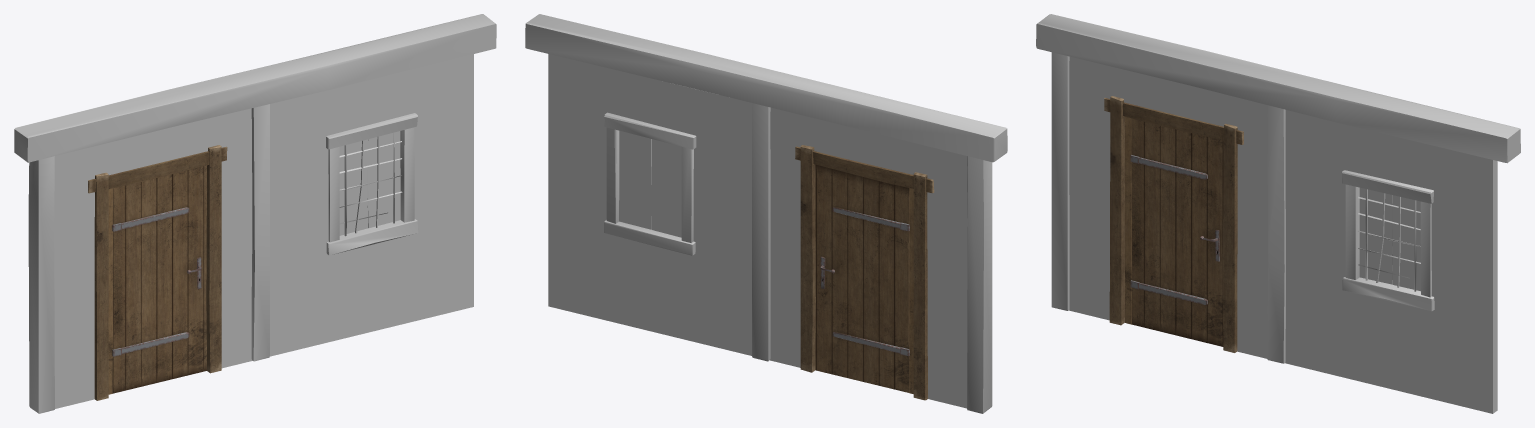
Rendered from SM_WallElement_08_LOD_02.FBX.
3 views of the same model, side by side, from view 1: azimuth 30°, elevation 25°; view 2: azimuth 150°, elevation 25°; view 3: azimuth 330°, elevation 25° (orthographic).
Visible parts, largest first — view 1: SM_WallElement_08_LOD_01, SM_Door_01_LOD_01, SM_Window_Shutter_Right_LOD_01, SM_Window_Shutter_Left_LOD_01; view 2: SM_WallElement_08_LOD_01, SM_Door_01_LOD_01, SM_Window_Shutter_Right_LOD_01, SM_Window_Shutter_Left_LOD_01; view 3: SM_WallElement_08_LOD_01, SM_Door_01_LOD_01, SM_Window_Shutter_Left_LOD_01, SM_Window_Shutter_Right_LOD_01.
Part boxes in pixels (bbox=[...]): SM_WallElement_08_LOD_01: bbox=[14, 14, 496, 413]; SM_Door_01_LOD_01: bbox=[112, 165, 206, 393]; SM_Window_Shutter_Right_LOD_01: bbox=[367, 131, 400, 228]; SM_Window_Shutter_Left_LOD_01: bbox=[339, 139, 367, 235]; SM_WallElement_08_LOD_01: bbox=[525, 14, 1007, 413]; SM_Door_01_LOD_01: bbox=[815, 164, 909, 392]; SM_Window_Shutter_Right_LOD_01: bbox=[619, 130, 651, 229]; SM_Window_Shutter_Left_LOD_01: bbox=[652, 139, 681, 237]; SM_WallElement_08_LOD_01: bbox=[1036, 14, 1520, 413]; SM_Door_01_LOD_01: bbox=[1130, 118, 1223, 346]; SM_Window_Shutter_Left_LOD_01: bbox=[1359, 187, 1392, 284]; SM_Window_Shutter_Right_LOD_01: bbox=[1392, 195, 1420, 291].
Bounding box in the file's own units: 5.46 × 3.16 × 0.3106.
